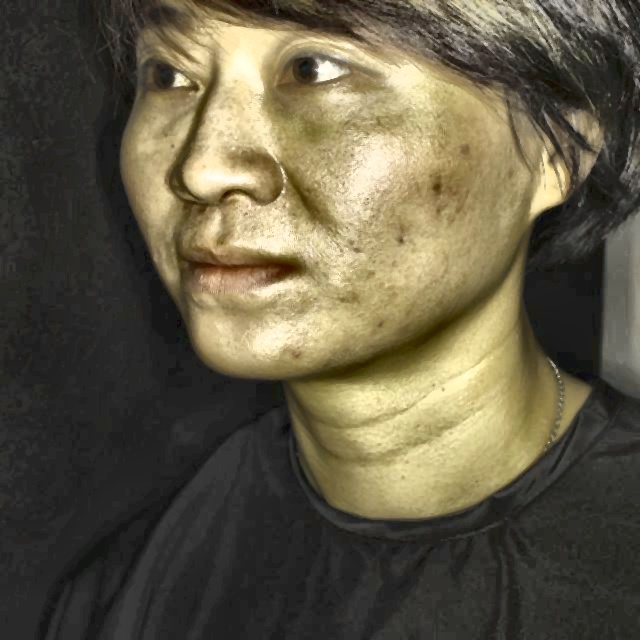comedone: (421, 176, 451, 200), (280, 340, 304, 363)
